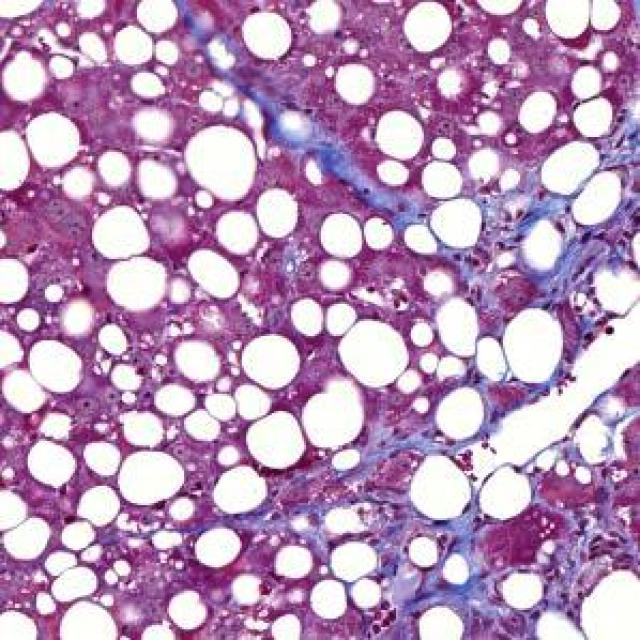fibrosis: (308, 478, 486, 602), (488, 210, 631, 330)
